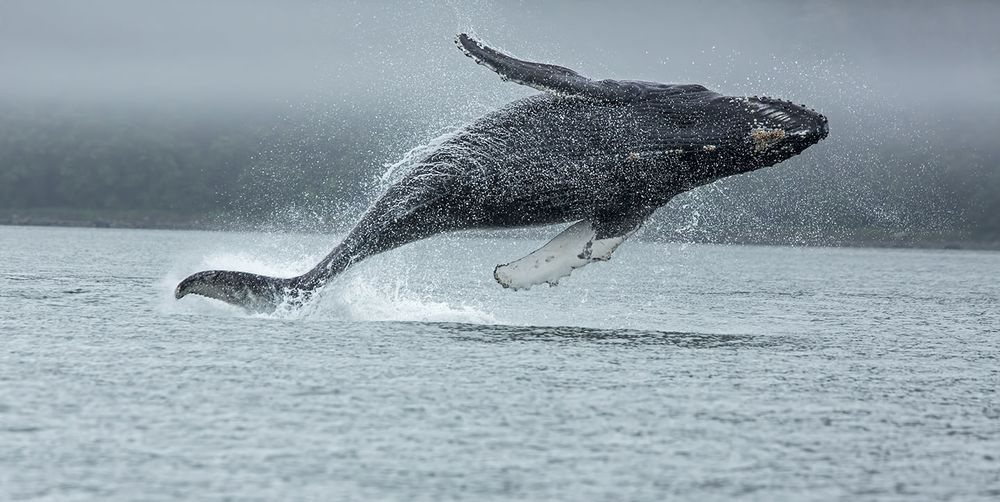humpback: (171, 70, 836, 301)
